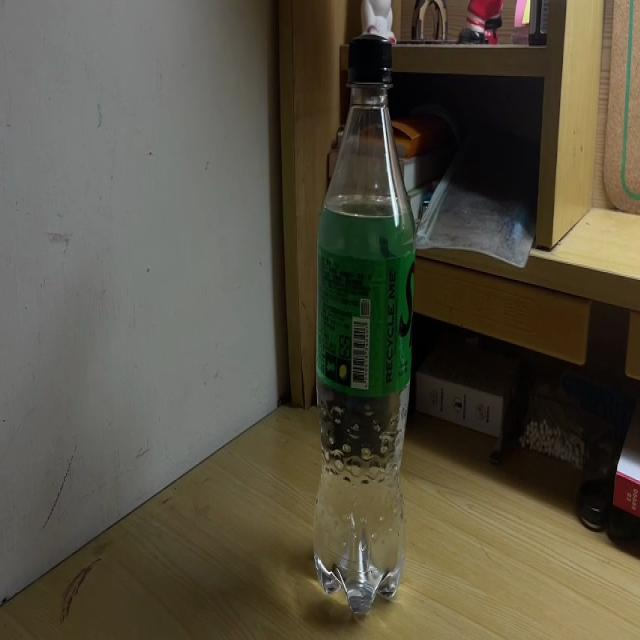Sprite: (315, 34, 415, 622)
